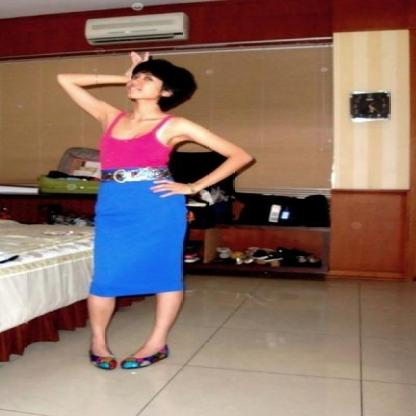bag: (99, 128, 171, 168)
shoe: (90, 344, 168, 369)
skirt: (90, 180, 188, 297)
